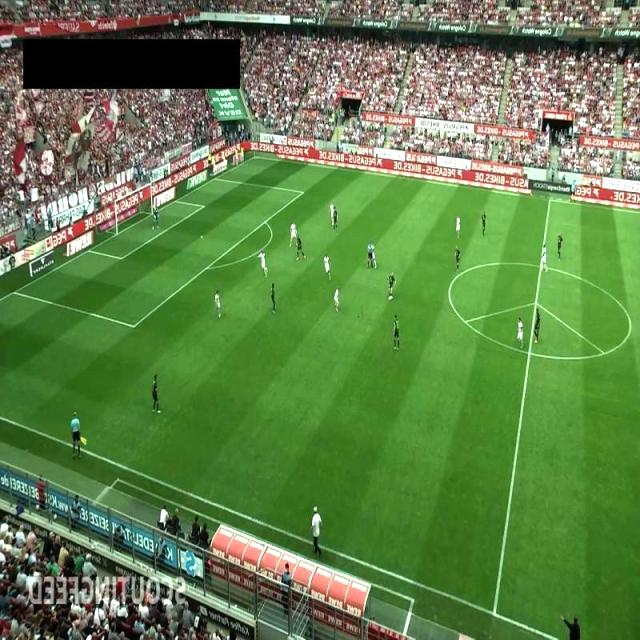bigarea_bottom_inner: (128, 320, 140, 332)
bigarea_bottom_outter: (7, 285, 20, 300)
bigarea_top_inner: (298, 186, 308, 198)
bigarea_top_outter: (210, 172, 220, 184)
bottom_arc_area_intersection: (200, 261, 213, 275)
corner: (250, 152, 260, 162)
halfcircle_bottom: (525, 348, 536, 359)
halfcircle_top: (536, 262, 547, 272)
midline_bottom_intersection: (483, 604, 505, 625)
midline_top_intersection: (546, 194, 556, 205)
smallarea_bottom_inner: (116, 252, 128, 262)
smallarea_bottom_outter: (82, 244, 96, 258)
smallarea_top_inner: (198, 200, 209, 210)
smallarea_top_outter: (170, 195, 180, 206)
top_arc_area_intersection: (260, 218, 270, 228)
